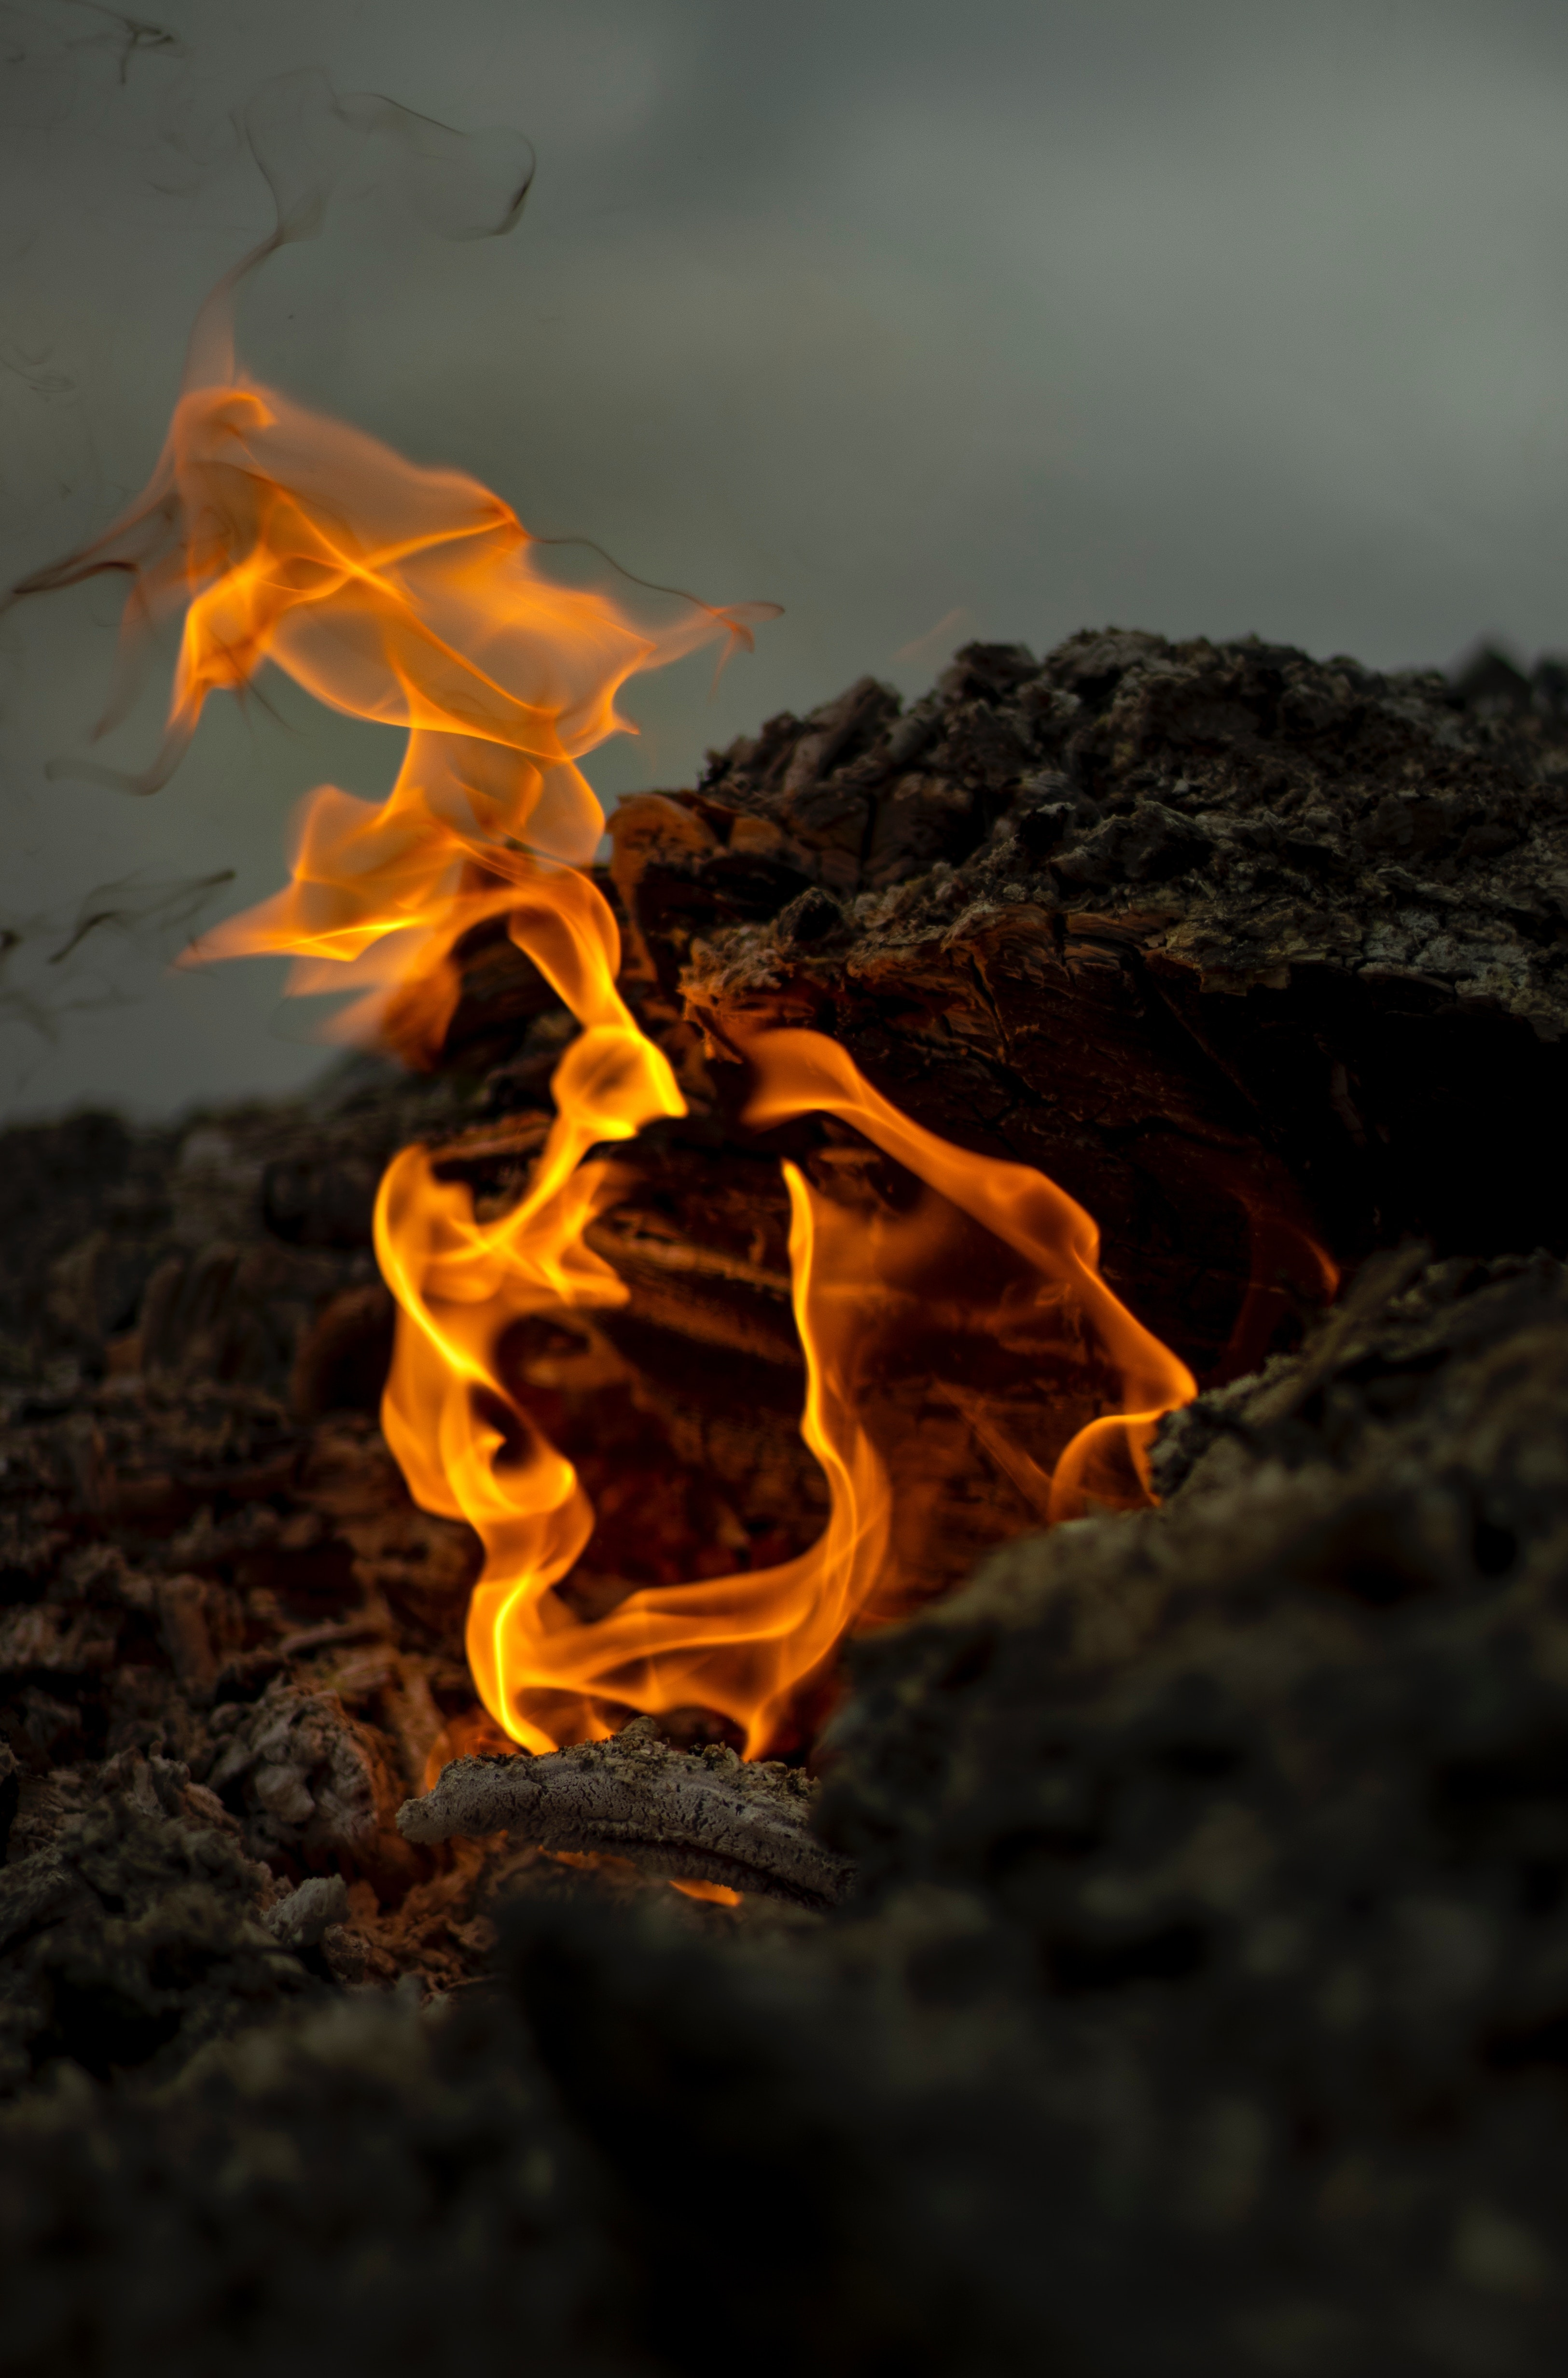fire: (145, 224, 1286, 1822)
